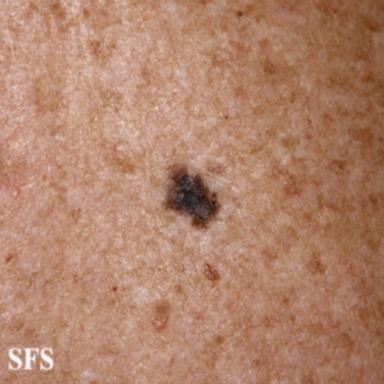Melanoma: (164, 165, 221, 225)
